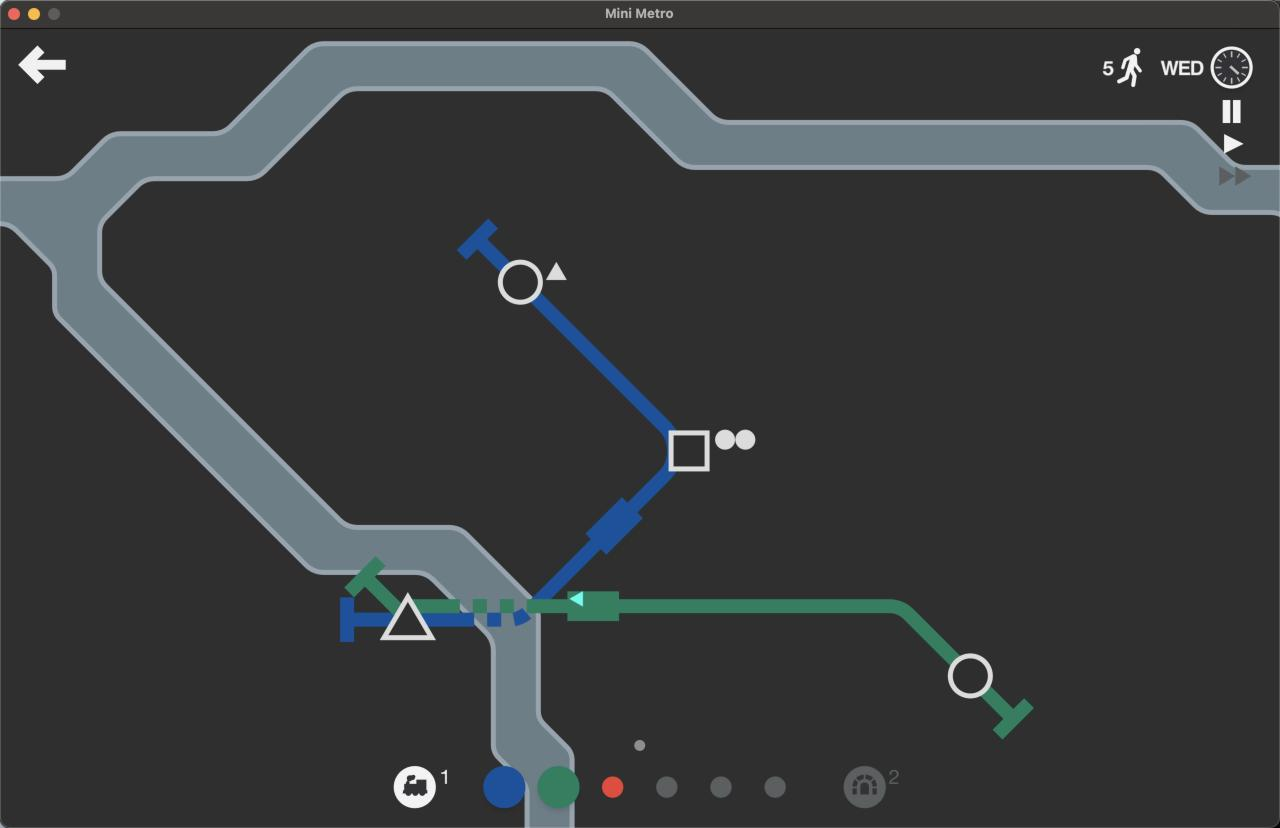CIRCLE: (946, 652, 994, 700), (496, 258, 544, 304)
SQUARE: (667, 428, 711, 473)
TRIANGLE: (378, 590, 438, 642)
